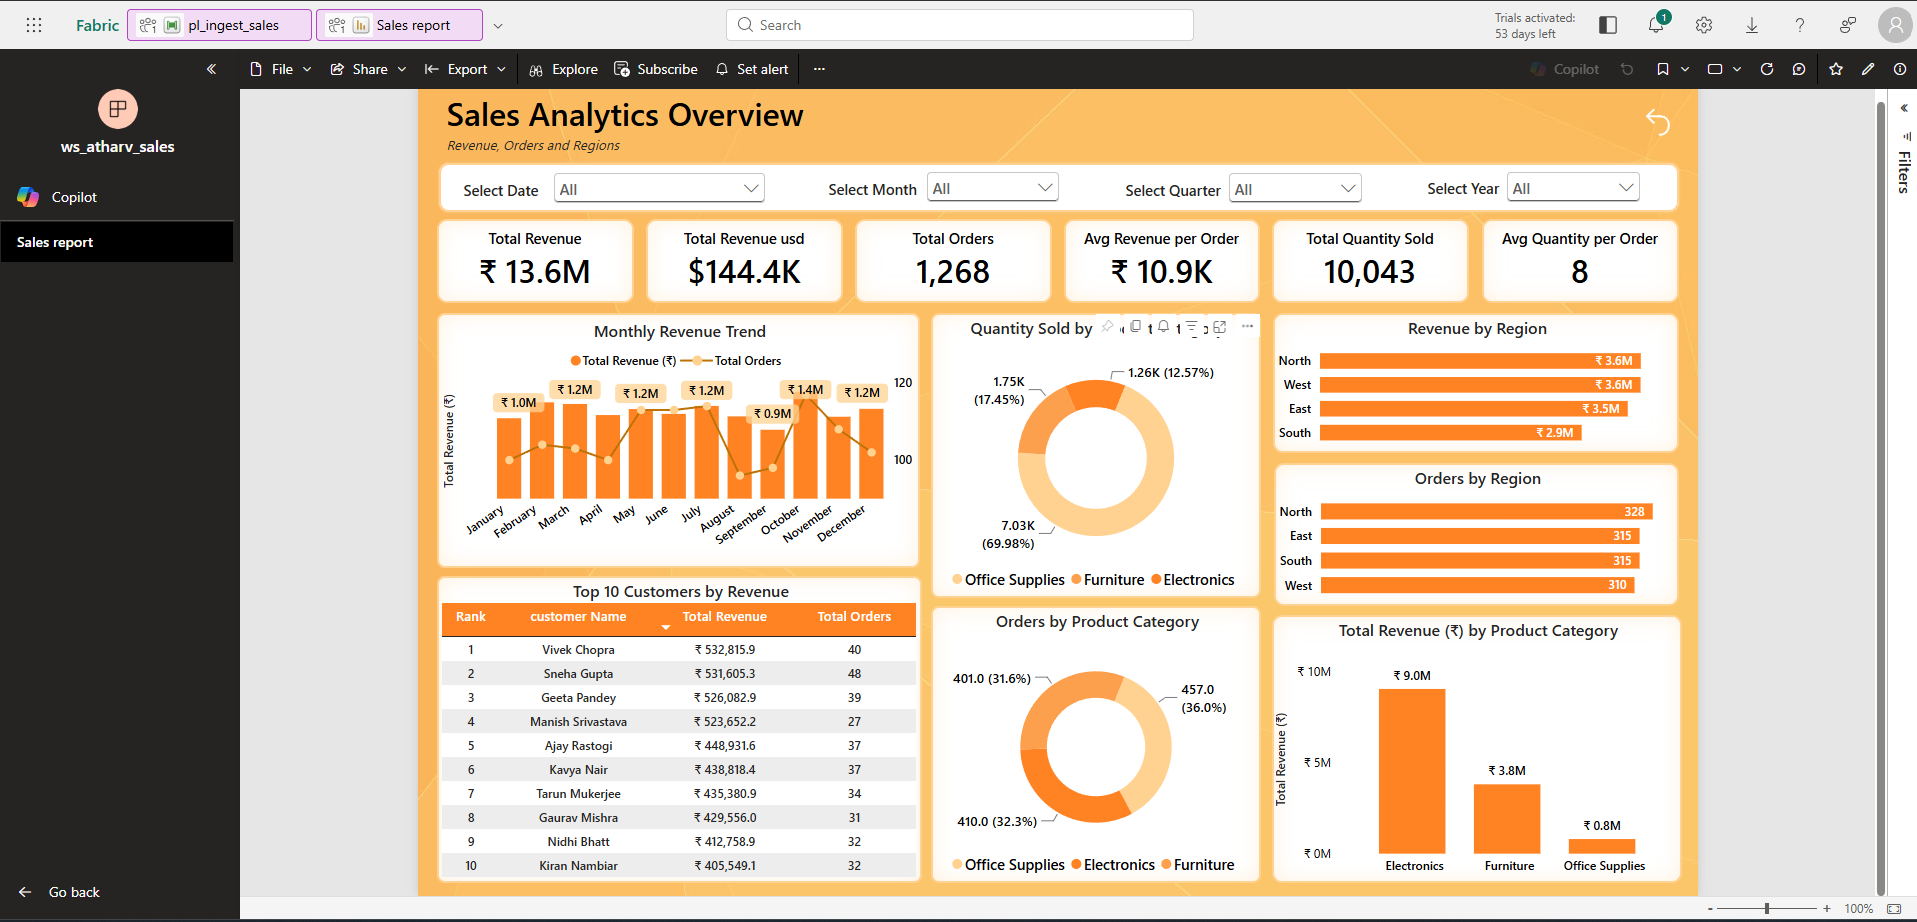

The dashboard page shown, as its layout file describes it:
{"tool":"powerbi","page":{"name":"Sales Analytics Overview","canvas":[1280,810],"ordinal":0},"visuals":[{"type":"shape","box":[18.1,73.6,1245.6,55.5],"z":0},{"type":"textbox","box":[411.5,92.4,92.9,21],"z":0,"group":"g2"},{"type":"textbox","box":[707.7,93.7,98.3,21.2],"z":0,"group":"g3"},{"type":"textbox","box":[45.8,94.1,84.6,20.8],"z":0,"group":"g1"},{"type":"textbox","box":[1009.5,91.4,73.9,22.6],"z":3,"group":"g4"},{"type":"slicer","fields":{"Values":["dim_date.year"]},"box":[1083.4,80.5,142.7,39.1],"z":9,"group":"g4"},{"type":"textbox","box":[28.5,5.4,372.9,50],"z":1000},{"type":"slicer","fields":{"Values":["dim_date.month_name"]},"box":[504.2,80.5,142.7,39.1],"z":1000,"group":"g2"},{"type":"slicer","fields":{"Values":["dim_date.full_date"]},"box":[130.4,81.9,220.9,39.1],"z":1000,"group":"g1"},{"type":"slicer","fields":{"Values":["dim_date.quarter"]},"box":[806.1,81.9,142.7,39.1],"z":1000,"group":"g3"},{"type":"textbox","box":[28.5,48.9,307.1,24.3],"z":2000},{"type":"group","id":"g1","title":"Group 1","box":[45.8,81.9,305.5,38.9],"z":3000},{"type":"group","id":"g2","title":"Group 2","box":[411.5,80.5,236.1,40.3],"z":4000},{"type":"group","id":"g3","title":"Group 3","box":[707.7,81.9,241.6,38.9],"z":5000},{"type":"group","id":"g4","title":"Group 4","box":[1009.5,80.5,216.6,38.9],"z":6000},{"type":"cardVisual","fields":{"Data":["fact_sales.Total Revenue"]},"box":[19,133,196.8,84.1],"z":7000},{"type":"cardVisual","fields":{"Data":["fact_sales.Total Orders"]},"box":[436.8,133,196.8,84.1],"z":8000},{"type":"cardVisual","fields":{"Data":["fact_sales.Total Quantity Sold"]},"box":[854.3,133,196.8,84.1],"z":9000},{"type":"cardVisual","fields":{"Data":["fact_sales.Avg Quantity per Order"]},"box":[1064.1,133,196.8,84.1],"z":10000},{"type":"cardVisual","fields":{"Data":["fact_sales.Total Revenue usd"]},"box":[228,133,196.8,84.1],"z":11000},{"type":"cardVisual","fields":{"Data":["fact_sales.Avg Revenue per Order"]},"box":[645.5,133,196.8,84.1],"z":12000},{"type":"clusteredBarChart","title":"Revenue by Region","fields":{"Category":["dim_region.region"],"Y":["fact_sales.Total Revenue"]},"box":[855.1,227,405.5,140],"z":13000},{"type":"clusteredBarChart","title":"Orders by Region","fields":{"Category":["dim_region.region"],"Y":["fact_sales.Total Orders"]},"box":[856.4,377,405,142.5],"z":14000},{"type":"donutChart","title":"Orders by Product Category","fields":{"Category":["dim_product.product_category"],"Y":["fact_sales.Total Orders"]},"box":[513,519.8,329.8,277],"z":15000},{"type":"donutChart","fields":{"Category":["dim_product.product_category"],"Y":["fact_sales.Total Quantity Sold"]},"box":[513,226.7,330,285],"z":16000},{"type":"tableEx","title":"Top 10 Customers by Revenue","fields":{"Values":["fact_sales.Customer Rank","dim_customer.customer_name","fact_sales.Total Revenue","fact_sales.Total Orders"]},"box":[18.8,490,485,307],"z":17000},{"type":"clusteredColumnChart","title":"Total Revenue (₹) by Product Category","fields":{"Category":["dim_product.product_category"],"Y":["fact_sales.Total Revenue"]},"box":[853.7,529.3,409.9,267.4],"z":18000},{"type":"lineStackedColumnComboChart","title":"Monthly Revenue Trend","fields":{"Category":["dim_date.month_name"],"Y":["fact_sales.Total Revenue"],"Y2":["fact_sales.Total Orders"]},"box":[19,226.7,483.2,255.2],"z":19000},{"type":"actionButton","box":[1217.4,16.3,46.1,39.4],"z":20000}]}

Visuals, with their boxes on the page's 1280x810 design canvas (x1, y1, x2, y2). These are canvas units, not pixel positions in the 1917x922 screenshot, which may show the page scaled, cropped or inside an application window:
shape: <box>18,74,1264,129</box>
textbox: <box>412,92,504,113</box>
textbox: <box>708,94,806,115</box>
textbox: <box>46,94,130,115</box>
textbox: <box>1010,91,1083,114</box>
slicer - dim_date.year: <box>1083,80,1226,120</box>
textbox: <box>28,5,401,55</box>
slicer - dim_date.month_name: <box>504,80,647,120</box>
slicer - dim_date.full_date: <box>130,82,351,121</box>
slicer - dim_date.quarter: <box>806,82,949,121</box>
textbox: <box>28,49,336,73</box>
"Group 1" group: <box>46,82,351,121</box>
"Group 2" group: <box>412,80,648,121</box>
"Group 3" group: <box>708,82,949,121</box>
"Group 4" group: <box>1010,80,1226,119</box>
cardVisual - fact_sales.Total Revenue: <box>19,133,216,217</box>
cardVisual - fact_sales.Total Orders: <box>437,133,634,217</box>
cardVisual - fact_sales.Total Quantity Sold: <box>854,133,1051,217</box>
cardVisual - fact_sales.Avg Quantity per Order: <box>1064,133,1261,217</box>
cardVisual - fact_sales.Total Revenue usd: <box>228,133,425,217</box>
cardVisual - fact_sales.Avg Revenue per Order: <box>646,133,842,217</box>
"Revenue by Region" clusteredBarChart: <box>855,227,1261,367</box>
"Orders by Region" clusteredBarChart: <box>856,377,1261,520</box>
"Orders by Product Category" donutChart: <box>513,520,843,797</box>
donutChart - dim_product.product_category x fact_sales.Total Quantity Sold: <box>513,227,843,512</box>
"Top 10 Customers by Revenue" tableEx: <box>19,490,504,797</box>
"Total Revenue (₹) by Product Category" clusteredColumnChart: <box>854,529,1264,797</box>
"Monthly Revenue Trend" lineStackedColumnComboChart: <box>19,227,502,482</box>
actionButton: <box>1217,16,1264,56</box>
